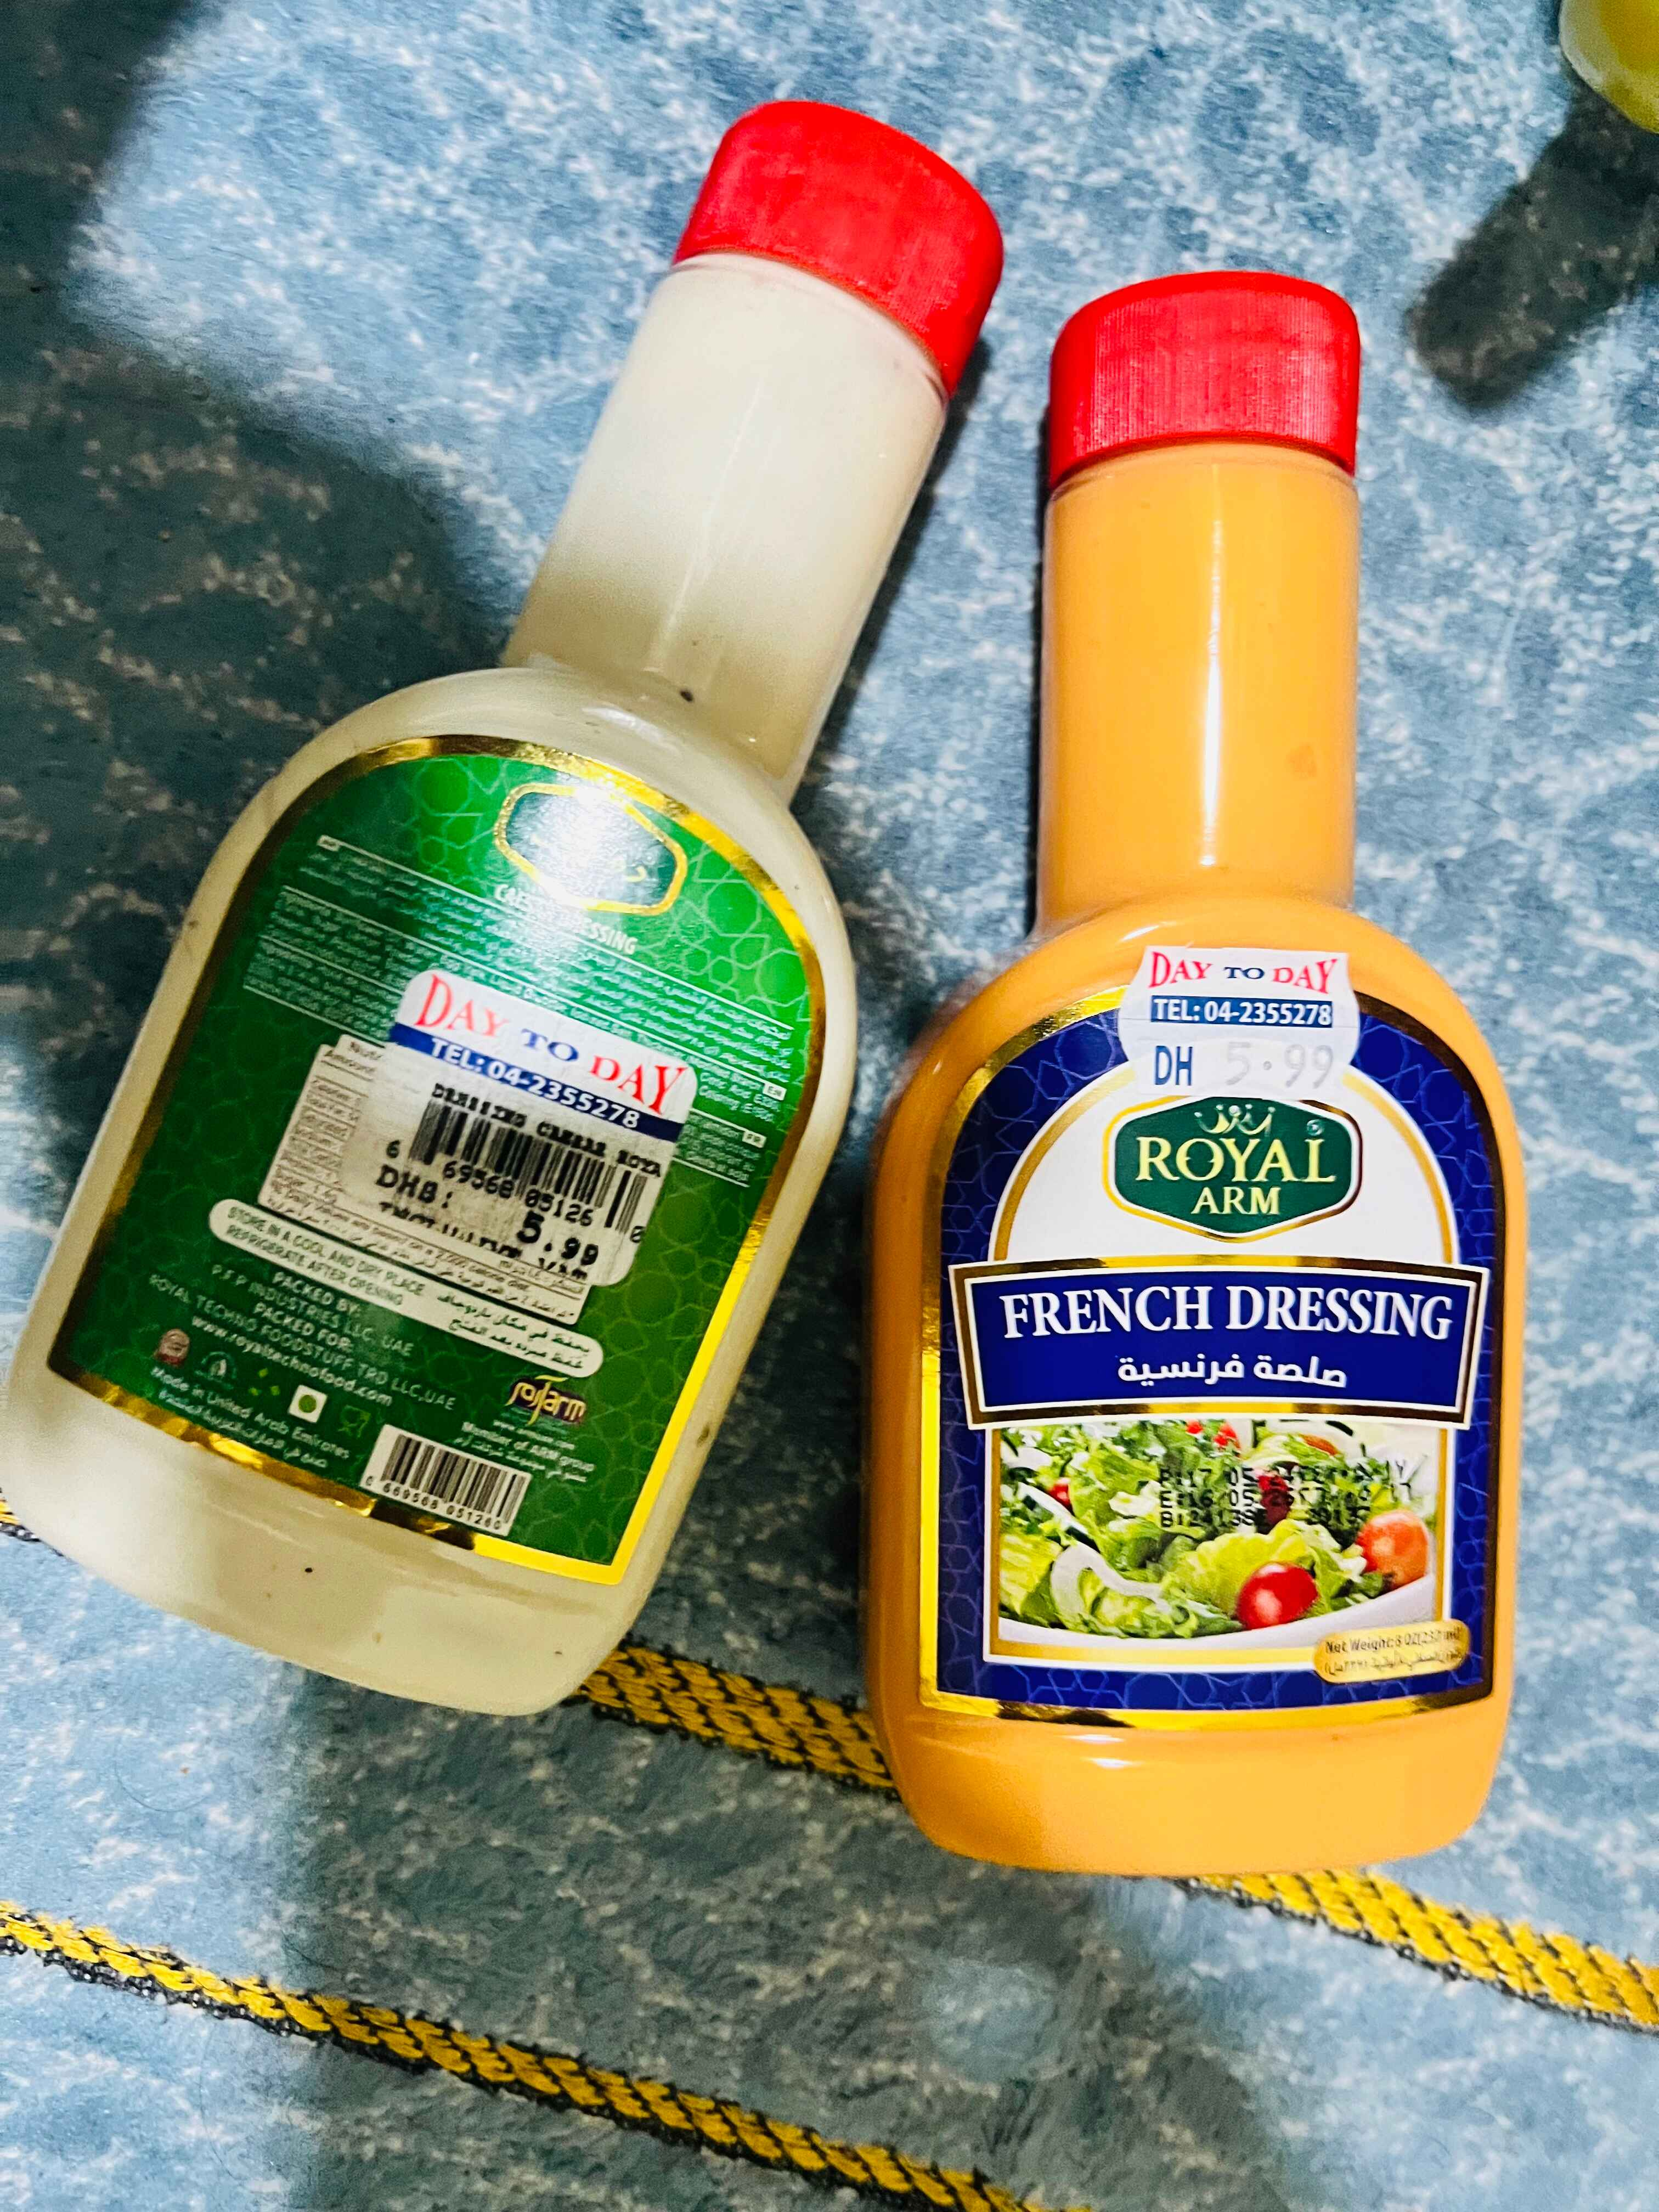PriceTagBig: (350, 961, 687, 1298)
PriceTagSmall: (1119, 944, 1366, 1103)
